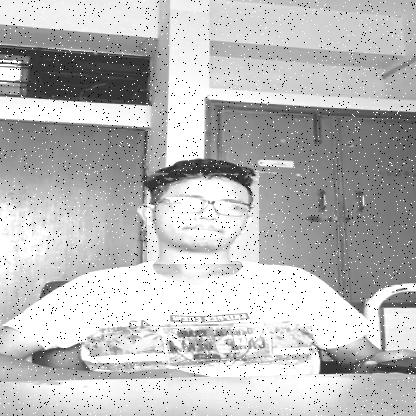Normal: (147, 173, 259, 264)
